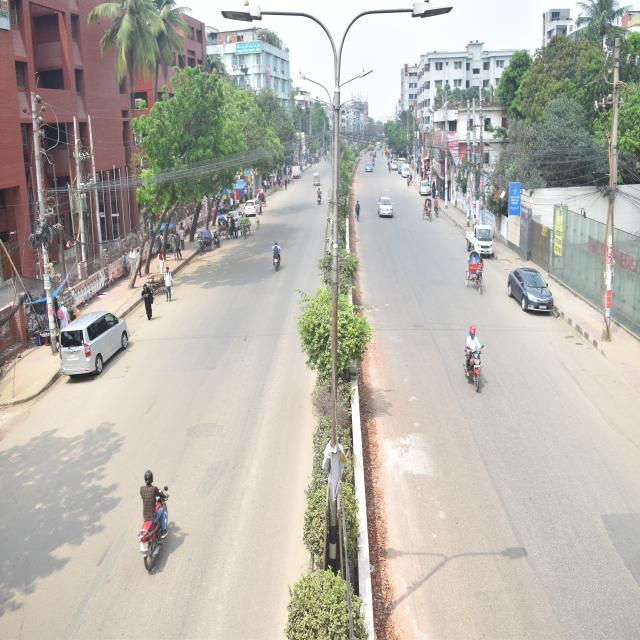car: (41, 304, 152, 390), (498, 250, 564, 342), (222, 200, 264, 247), (370, 191, 400, 239), (242, 192, 271, 229), (414, 176, 438, 206), (401, 161, 417, 182), (360, 152, 373, 177)
motorbike: (111, 448, 214, 573), (451, 317, 493, 400), (260, 236, 302, 304), (310, 179, 328, 217), (370, 154, 375, 170)
pickup-van: (454, 208, 504, 274)
